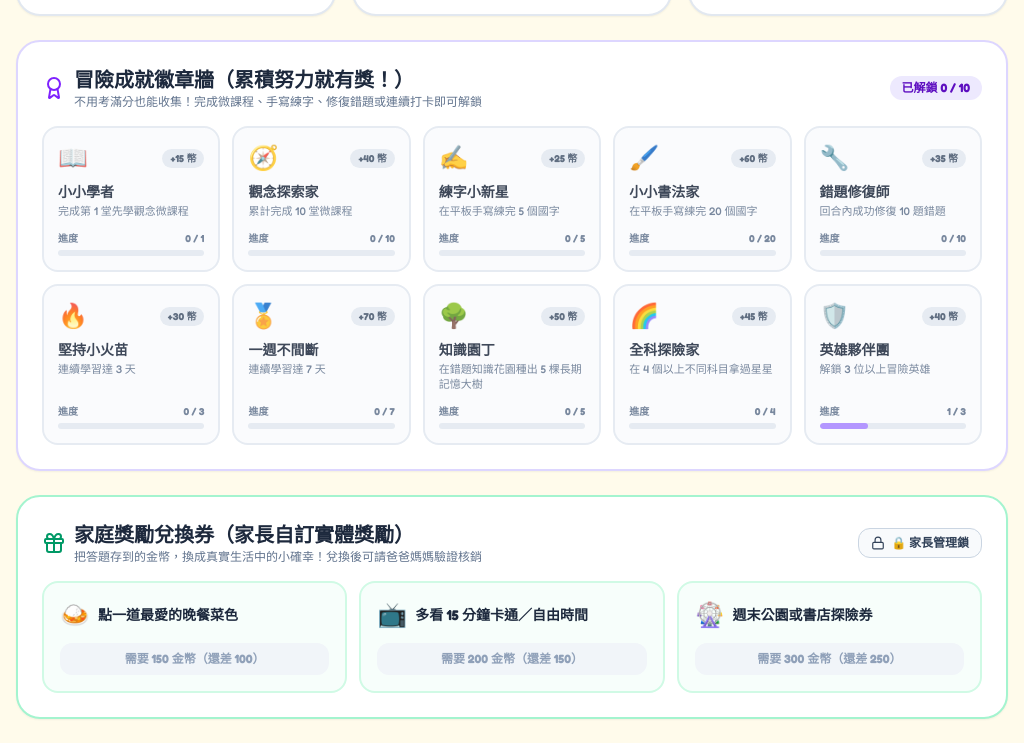
Scenario: Engagement, Hanzi & Deep Teaching Features › HeroShop gates parent reward creation behind ParentGateModal
(page scrolled)
Check: the text "家長新增獎勵：" is not shown
Click the button "🔒 家長管理鎖" at (920, 543), box [858,528,982,558]
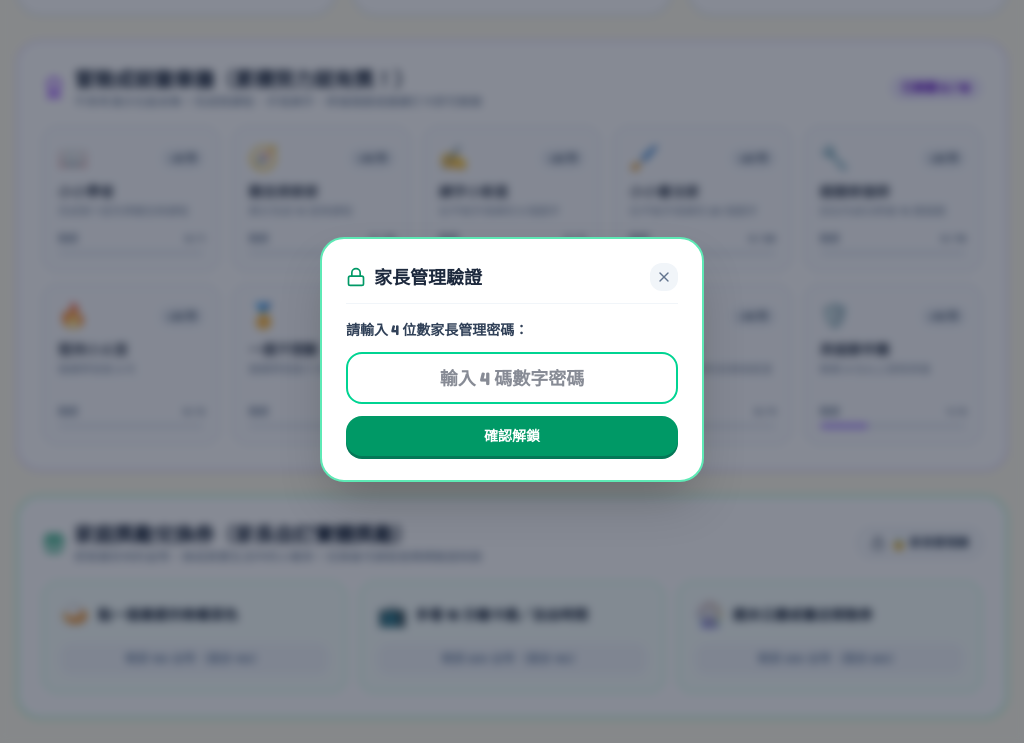
Check: the heading "家長管理驗證" is shown, box [374,262,482,290]
Type "2468" into the password field with placeholder "輸入 4 碼數字密碼" at (512, 378), box [346,352,678,404]
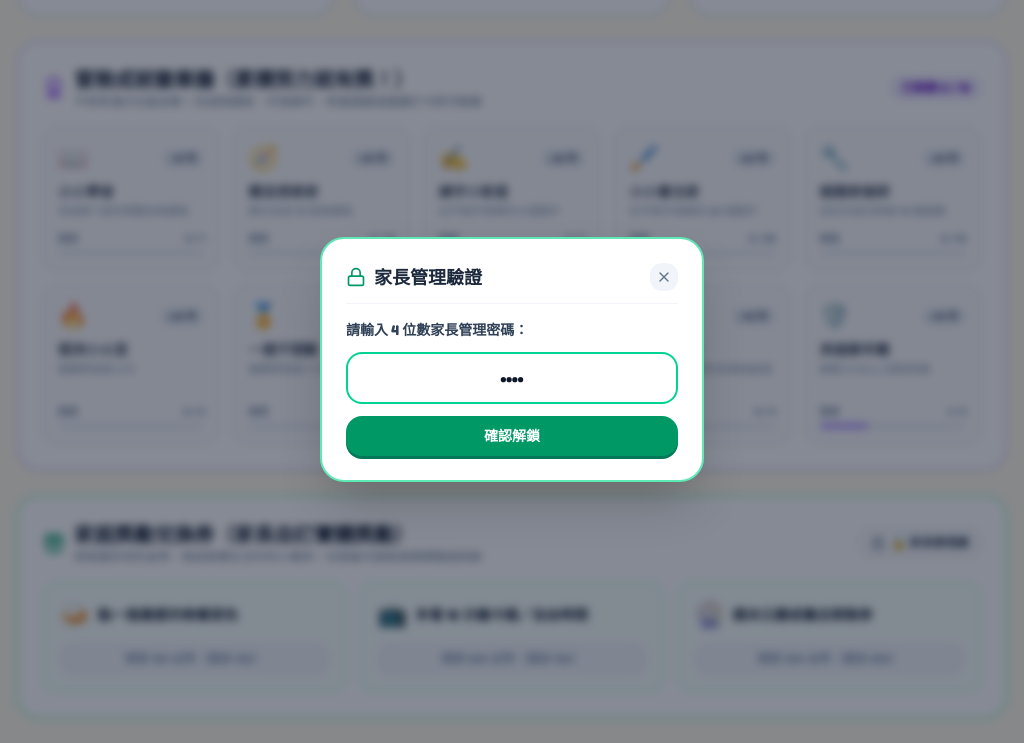
Click the button "確認解鎖" at (512, 436), box [346,416,678,456]
(page scrolled)
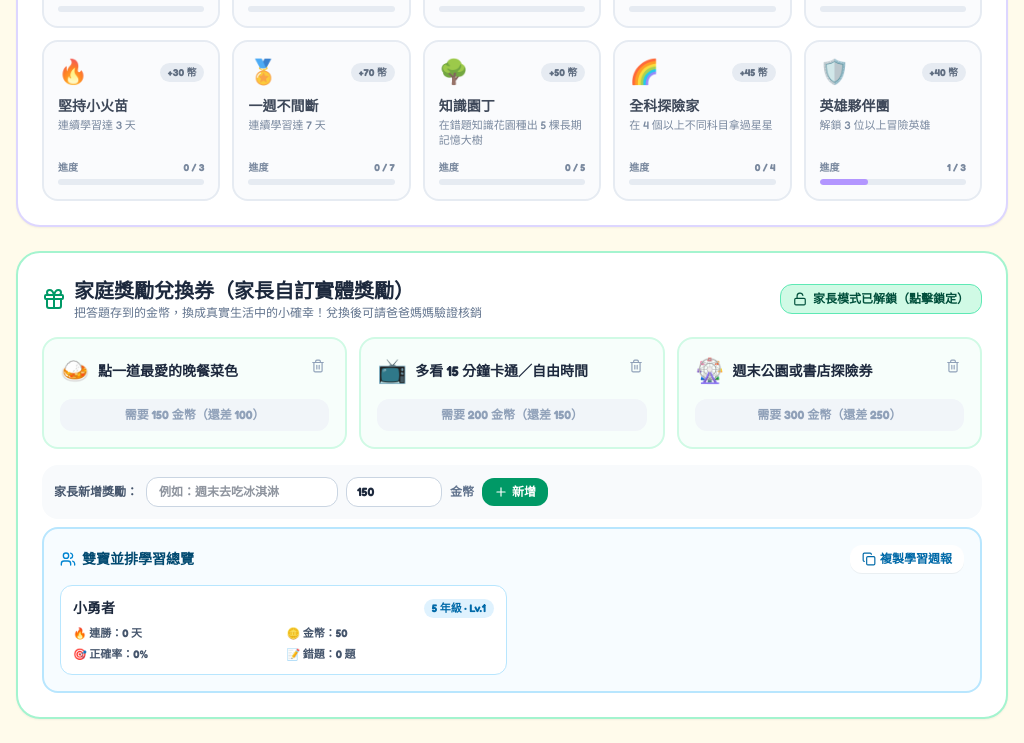
Check: the text "家長新增獎勵：" is shown, box [54,484,138,500]
